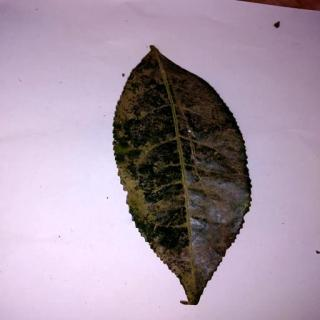Anthracnose: (116, 43, 252, 305)
